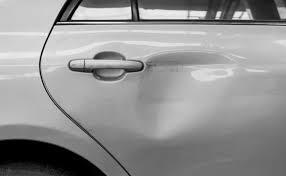dent: (131, 45, 242, 142)
